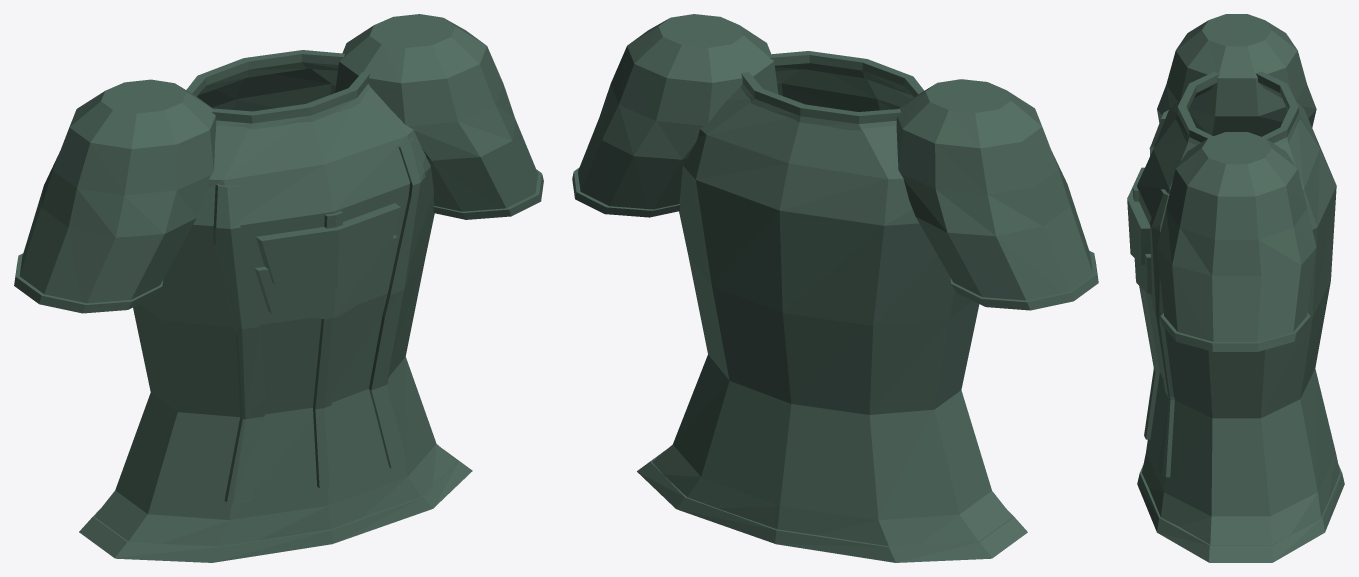
The model's file is leather_chest-female-scaledHide.glb.
3 views of the same model, side by side, from view 1: azimuth 30°, elevation 25°; view 2: azimuth 150°, elevation 25°; view 3: azimuth 270°, elevation 25° (orthographic). The views are drawn at different scales.
Visible parts, largest first — view 1: leather tunic torso, leather upper sleeve -1, leather upper sleeve 1, Sewn tunic side facing -1, Lapped hide reinforcement leather tunic torso 0, Bound tunic hem, Fitted tunic neckline, Sewn tunic side facing 1, Lapped hide reinforcement leather tunic torso 1, Reinforced tunic closure, Sleeve cuff binding -1, Sleeve cuff binding 1; view 2: leather tunic torso, leather upper sleeve -1, leather upper sleeve 1, Bound tunic hem, Fitted tunic neckline, Sleeve cuff binding -1, Sleeve cuff binding 1; view 3: leather tunic torso, leather upper sleeve 1, leather upper sleeve -1, Bound tunic hem, Sewn tunic side facing 1, Fitted tunic neckline, Sleeve cuff binding 1, Lapped hide reinforcement leather tunic torso 0, Reinforced tunic closure, Lapped hide reinforcement leather tunic torso 1.
Boxes of the visible parts, x1,y1,x2,y2 form: leather tunic torso: [94, 69, 457, 562]; leather upper sleeve -1: [19, 79, 216, 303]; leather upper sleeve 1: [335, 14, 537, 211]; Sewn tunic side facing -1: [213, 184, 266, 503]; Lapped hide reinforcement leather tunic torso 0: [256, 203, 400, 290]; Bound tunic hem: [79, 449, 472, 562]; Fitted tunic neckline: [186, 50, 370, 129]; Sewn tunic side facing 1: [369, 137, 425, 468]; Lapped hide reinforcement leather tunic torso 1: [254, 234, 397, 319]; Reinforced tunic closure: [313, 211, 343, 488]; Sleeve cuff binding -1: [14, 253, 163, 313]; Sleeve cuff binding 1: [433, 169, 543, 219]; leather tunic torso: [652, 69, 1012, 562]; leather upper sleeve -1: [896, 79, 1092, 300]; leather upper sleeve 1: [578, 14, 778, 209]; Bound tunic hem: [637, 450, 1027, 562]; Fitted tunic neckline: [740, 51, 924, 130]; Sleeve cuff binding -1: [950, 251, 1098, 310]; Sleeve cuff binding 1: [572, 167, 680, 217]; leather tunic torso: [1137, 96, 1339, 562]; leather upper sleeve 1: [1157, 132, 1316, 341]; leather upper sleeve -1: [1157, 14, 1316, 136]; Bound tunic hem: [1137, 464, 1344, 562]; Sewn tunic side facing 1: [1149, 189, 1174, 477]; Fitted tunic neckline: [1176, 71, 1300, 145]; Sleeve cuff binding 1: [1160, 313, 1310, 351]; Lapped hide reinforcement leather tunic torso 0: [1127, 167, 1150, 264]; Reinforced tunic closure: [1132, 183, 1159, 439]; Lapped hide reinforcement leather tunic torso 1: [1134, 254, 1151, 293].
Size of the model in its own units: 3.14 by 2.62 by 1.3.
